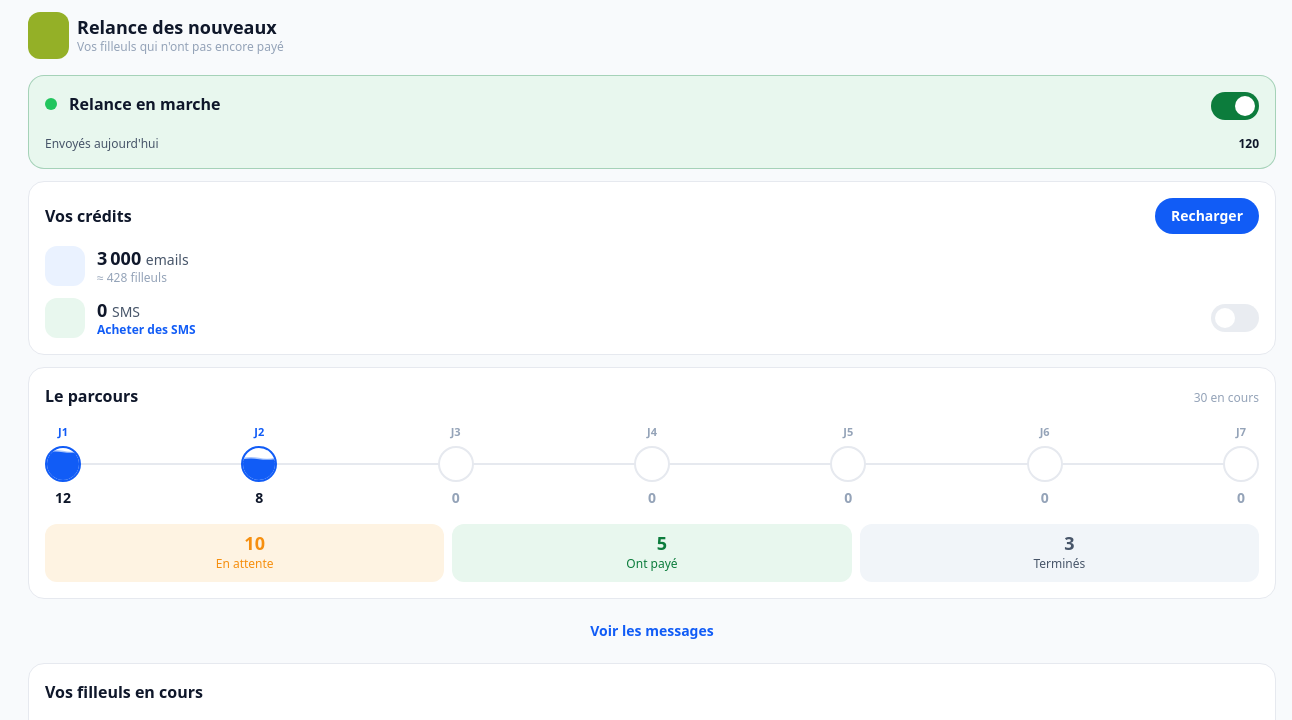
Test: Relance des nouveaux › tells the parrain when a change failed, in French
Click the switch named "Relance des nouveaux". click: [1235, 106]
box: [1211,92,1259,120]
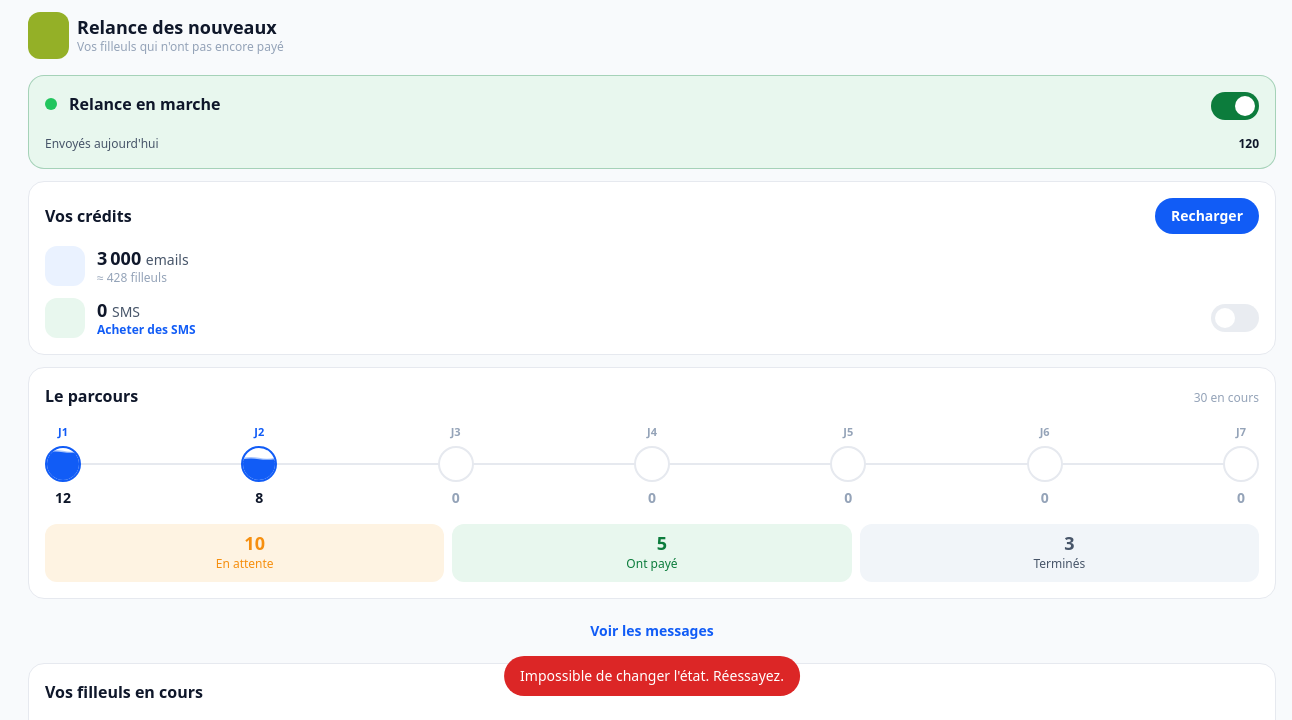
Expected: the message shows "Impossible de changer l'état", [520,666,784,685]
